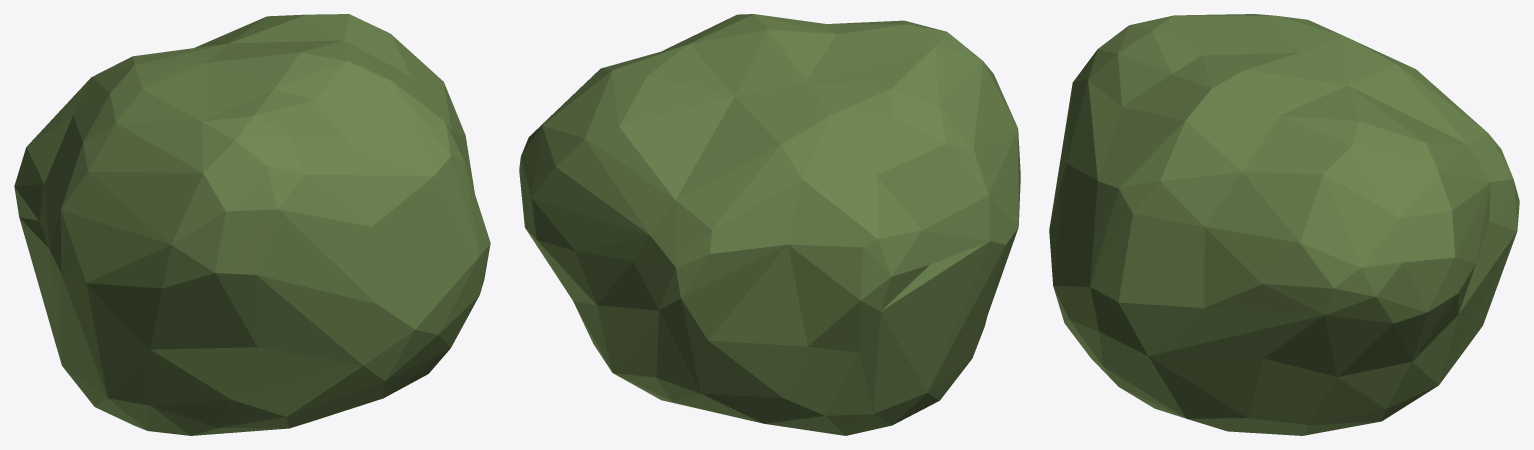
The model's file is arbusto1final nivel 1 .fbx.
3 views of the same model, side by side, from view 1: azimuth 30°, elevation 25°; view 2: azimuth 150°, elevation 25°; view 3: azimuth 270°, elevation 25° (orthographic).
Visible parts, largest first — view 1: arbol.003; view 2: arbol.003; view 3: arbol.003.
Part boxes in pixels (<box>): arbol.003: <box>14,14,490,435</box>; arbol.003: <box>519,14,1020,435</box>; arbol.003: <box>1049,14,1519,435</box>.
Bounding box in the file's own units: 231 × 174 × 221.
